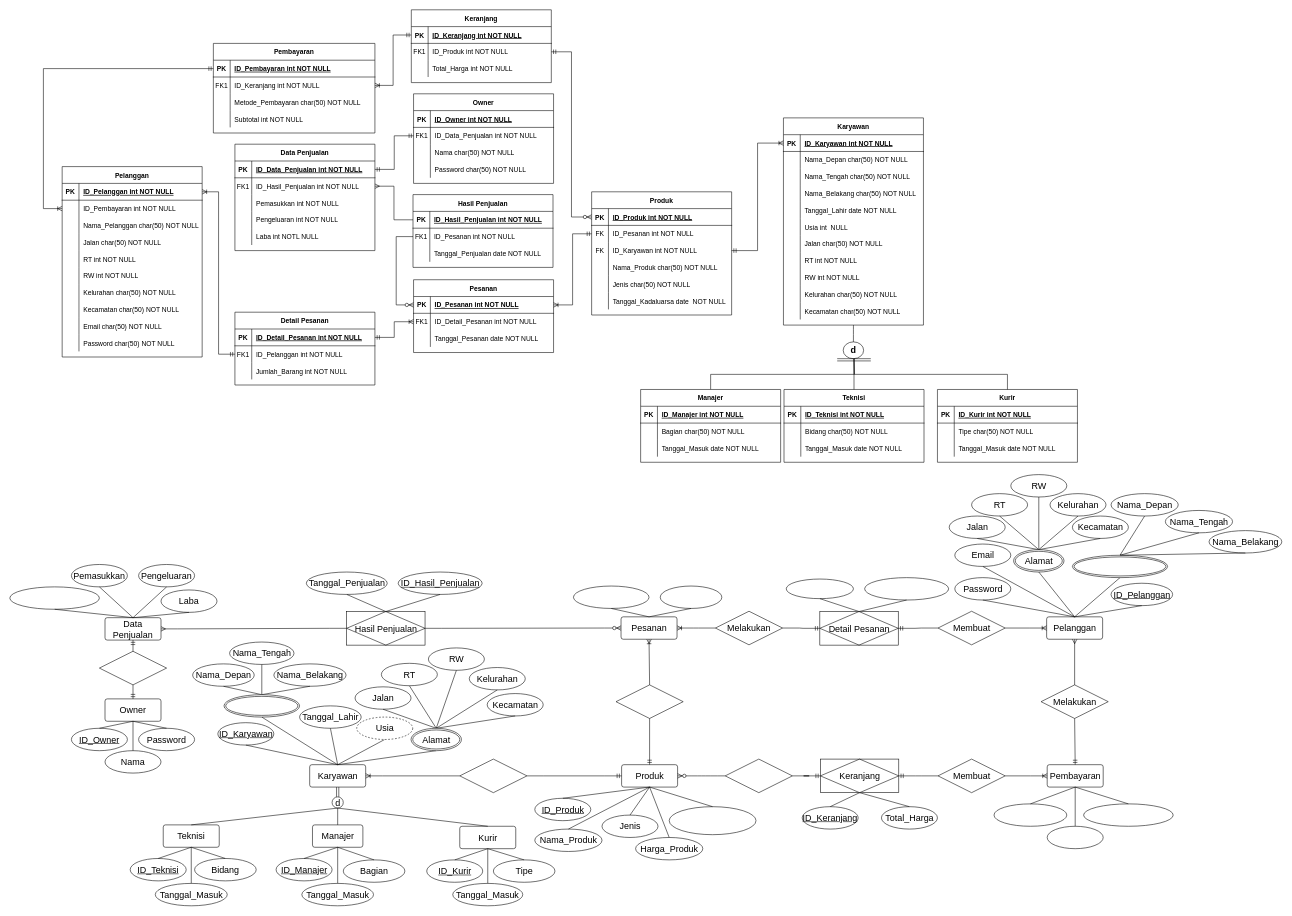
Image size: 1292x916. Some labels were removed from this diagram. Here are the shapes that lost their labels. From the top down, the centre of each, then its label:
[1120,566]: Nama_Pelanggan
[54,597]: ID_Data_Penjualan
[611,596]: Tanggal_Pesanan
[691,596]: ID_Pesanan
[819,588]: Jumlah_Barang
[906,588]: ID_Detail_Pesanan
[133,668]: Menerima
[261,705]: Nama_Karyawan
[649,701]: Memilih
[493,776]: Mengelola
[758,776]: Memasukkan
[712,820]: Tanggal_Kadaluarsa
[1030,814]: ID_Pembayaran
[1128,814]: Metode_Pembayaran
[1075,837]: Subtotal
